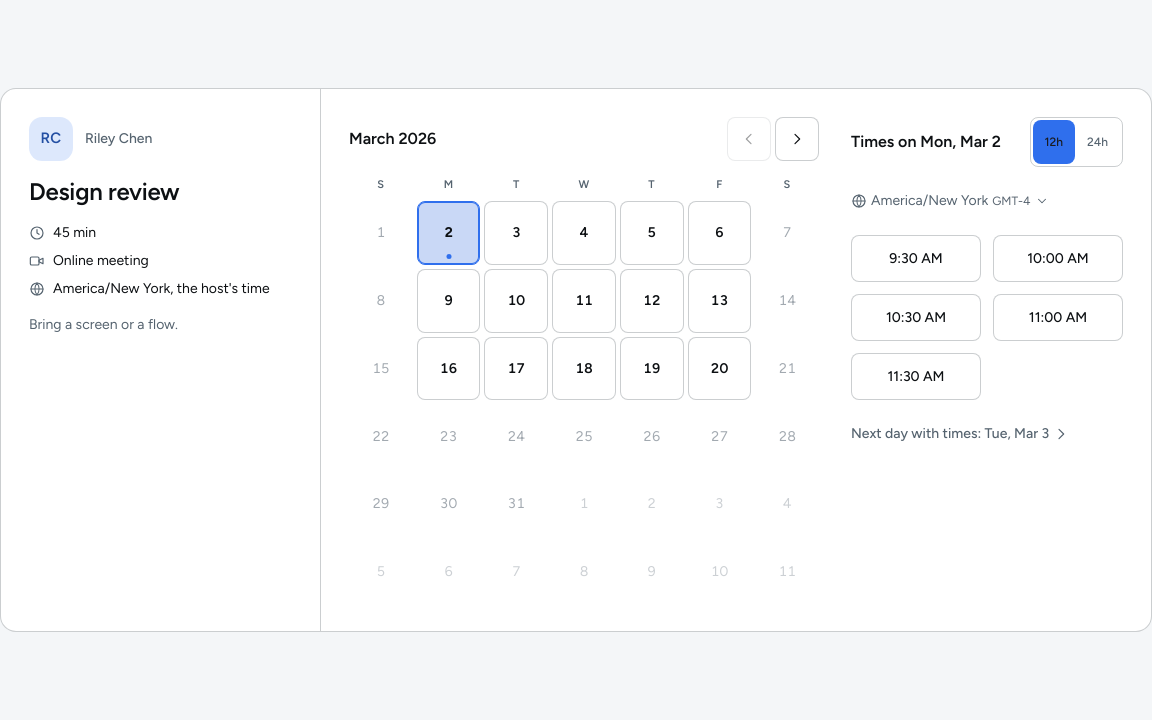
Scenario: the reads go in the order a visitor needs them › later months are read when visited, and a month in hand is never read again
The width and height of the screenshot is (1152, 720).
Step 1. Click the button named "Next month" → (797, 139), box [775,117,819,161]
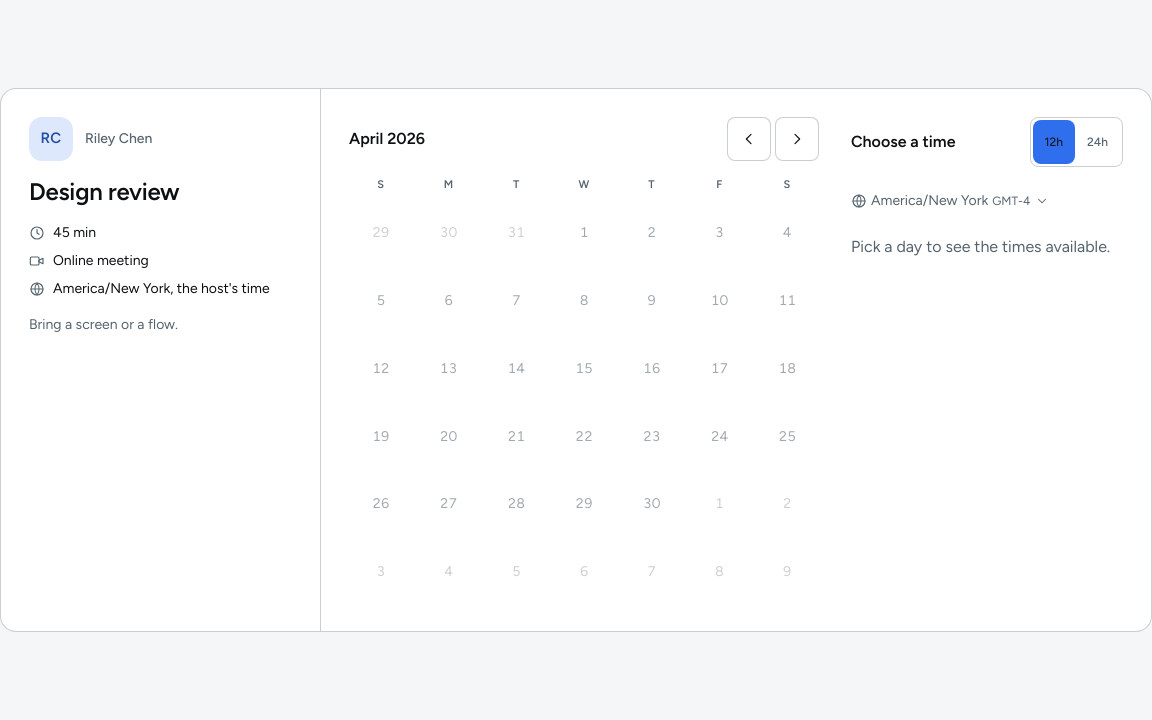
Result: the heading "April 2026" is shown at [349,127,425,151]
Step 2. Click the button named "Next month" → (797, 139), box [775,117,819,161]
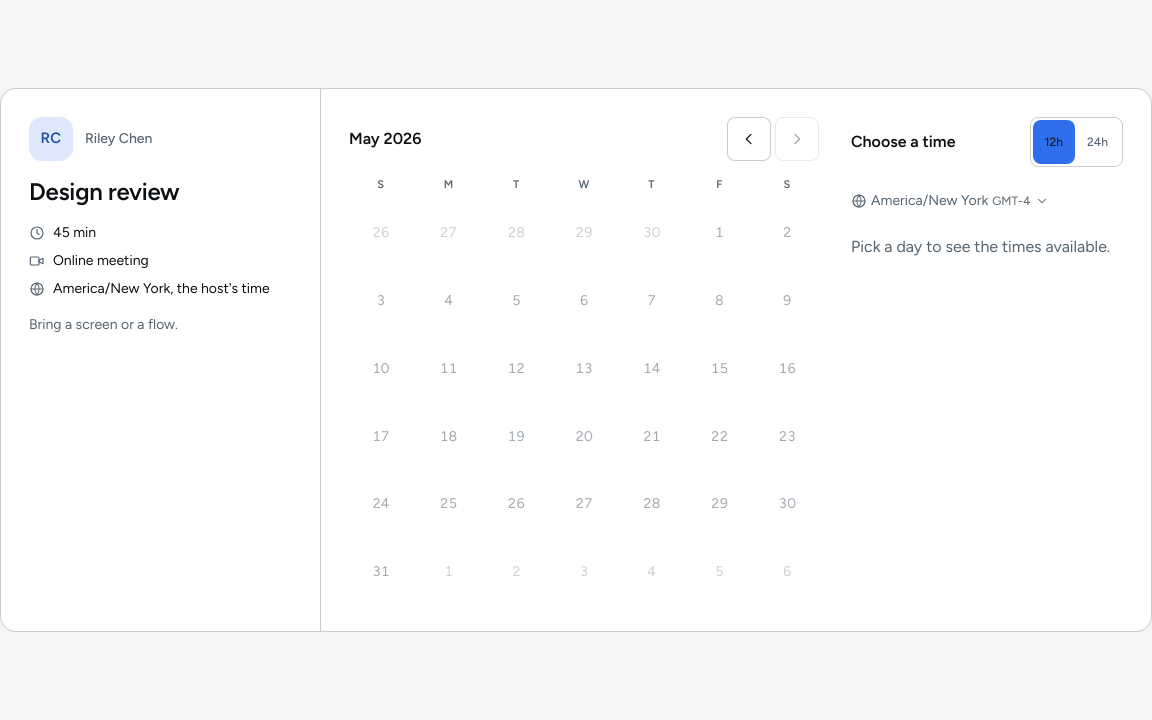
Result: the heading "May 2026" is shown at [349,127,421,151]
Step 3. Click the button named "Previous month" → (749, 139), box [727,117,771,161]
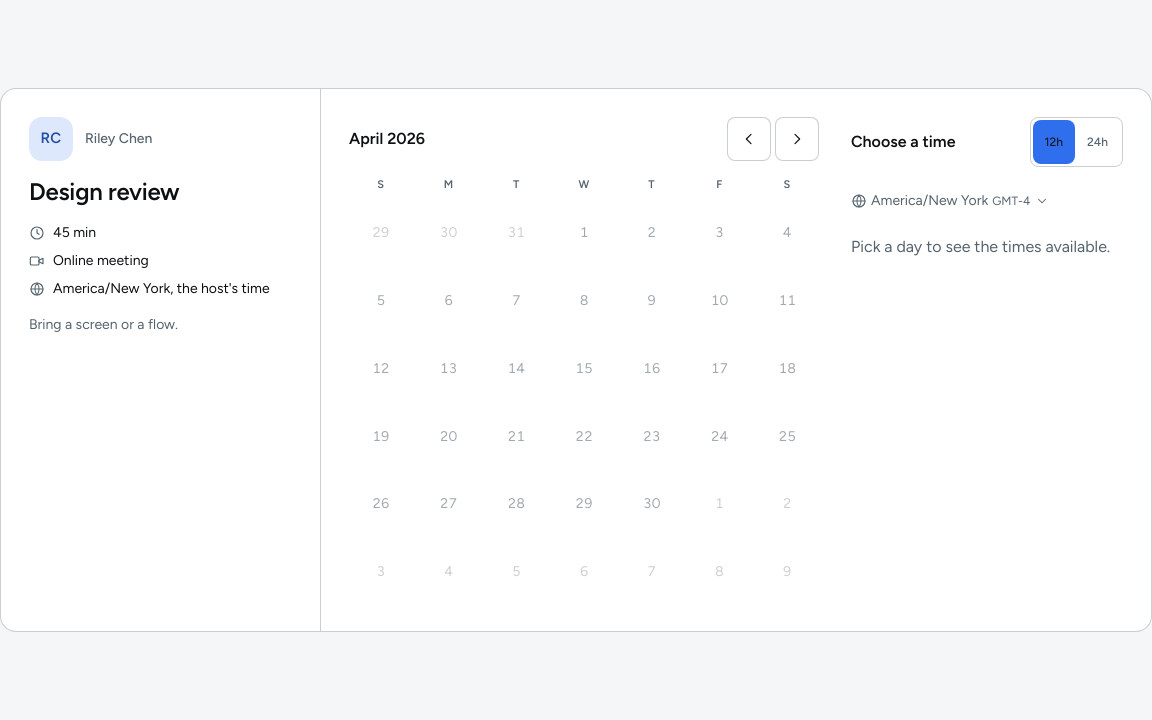
Step 4. Click the button named "Previous month" → (749, 139), box [727,117,771,161]
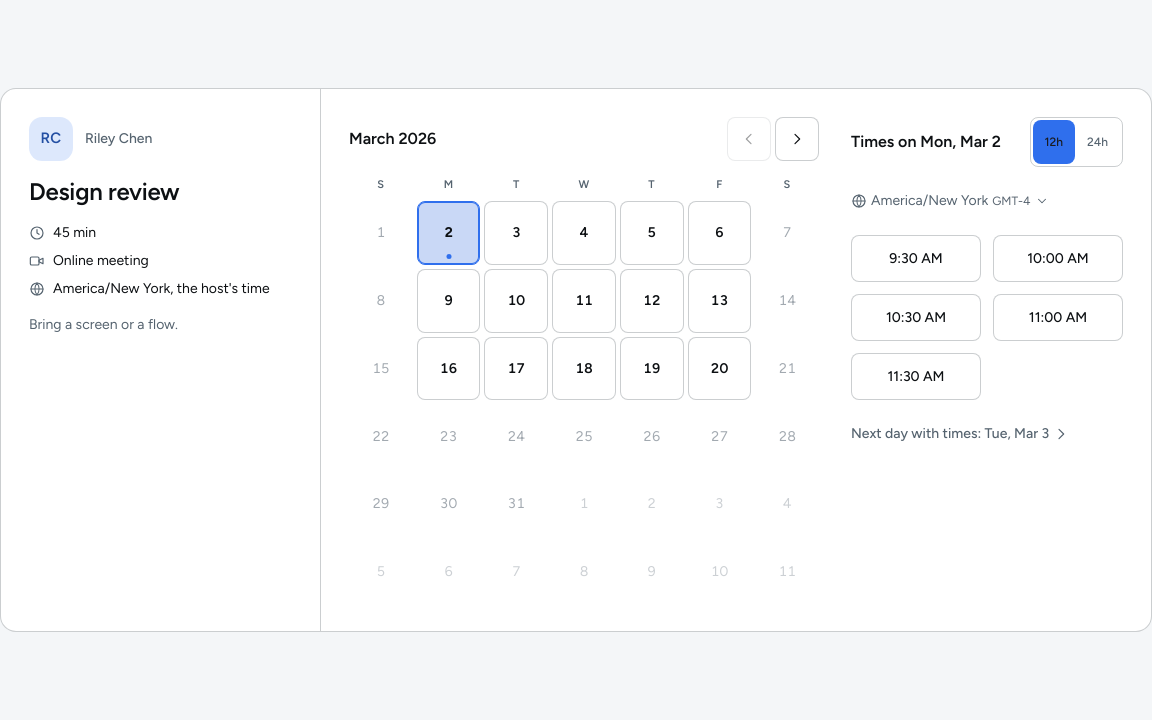
Result: the heading "March 2026" is shown at [349,127,436,151]
